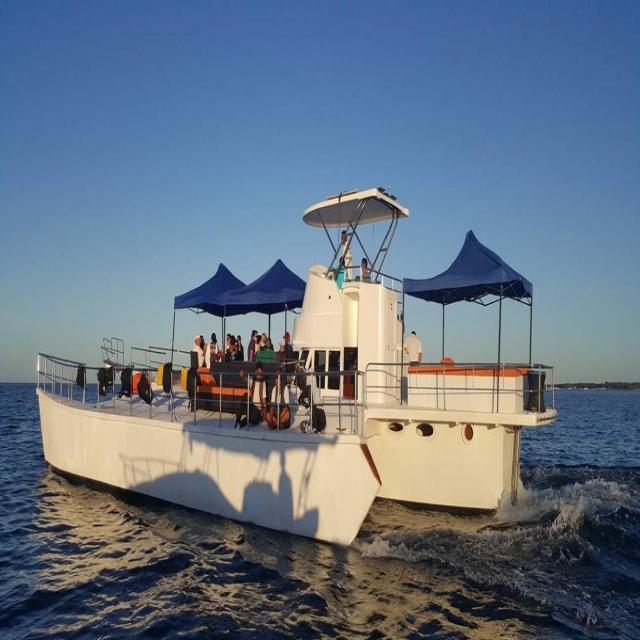houseboat: (24, 164, 541, 544)
